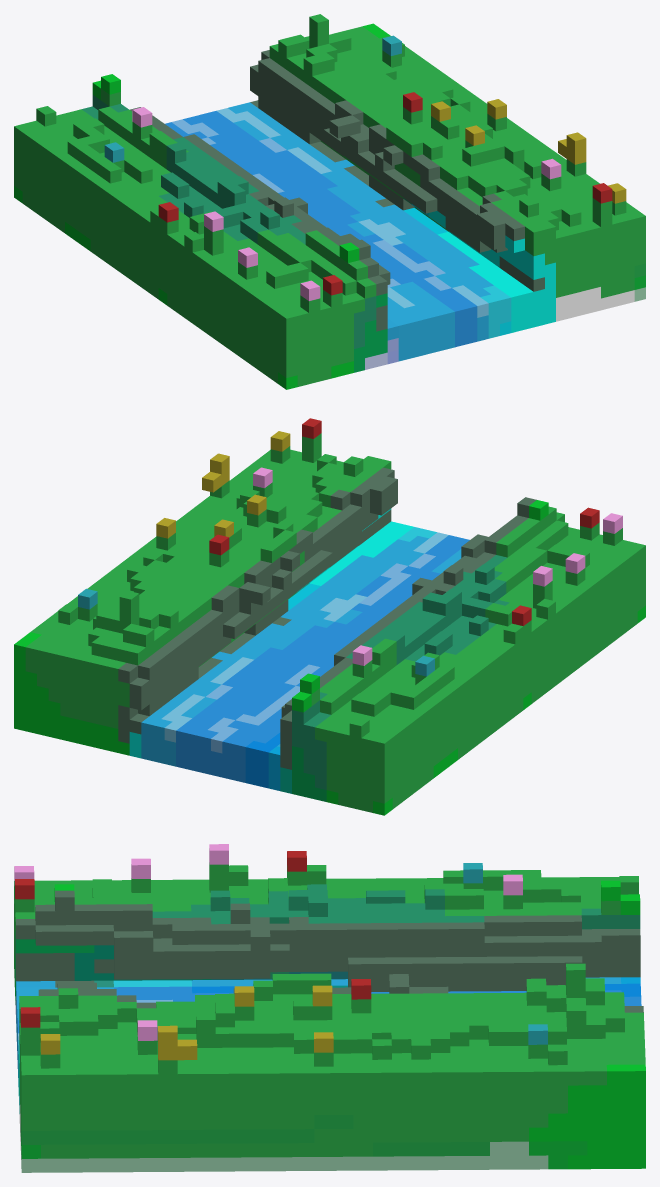
The model's file is gracht schoon.fbx.
3 renders of one model, top to bottom at view 1: azimuth 30°, elevation 25°; view 2: azimuth 150°, elevation 25°; view 3: azimuth 270°, elevation 25°, orthographic. The views are drawn at different scales.
Parts seen in each view (by area): view 1: Layer.140; view 2: Layer.140; view 3: Layer.140.
Boxes of the visible parts, box(x1,y1,x2,y2) form: Layer.140: box(14, 14, 645, 389); Layer.140: box(14, 418, 645, 815); Layer.140: box(14, 844, 645, 1172).
Size of the model in its own units: 2408 by 812 by 3029.
Materials: 1 (1 with a texture image).
